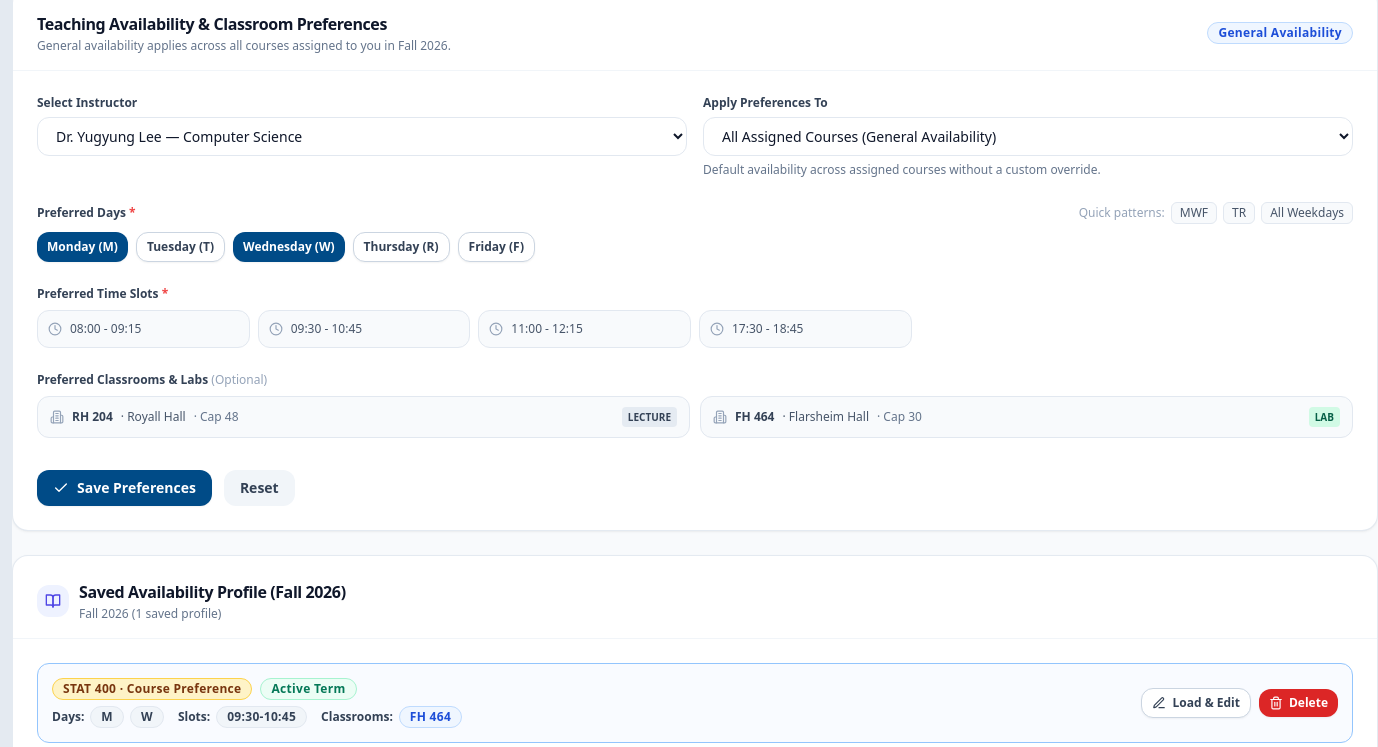
it: PreferencesPage Component › supports Load & Edit and Delete on per-course saved preferences
(page scrolled)
Expected: the text "STAT 400 · Course Preference" is shown, [52, 678, 252, 700]
Expected: the dropdown with test id "preference-course-select" shows "All Assigned Courses (General Availability)", [703, 116, 1353, 156]
Click the button with test id "edit-pref-301" at (1196, 702), box [1142, 688, 1251, 718]
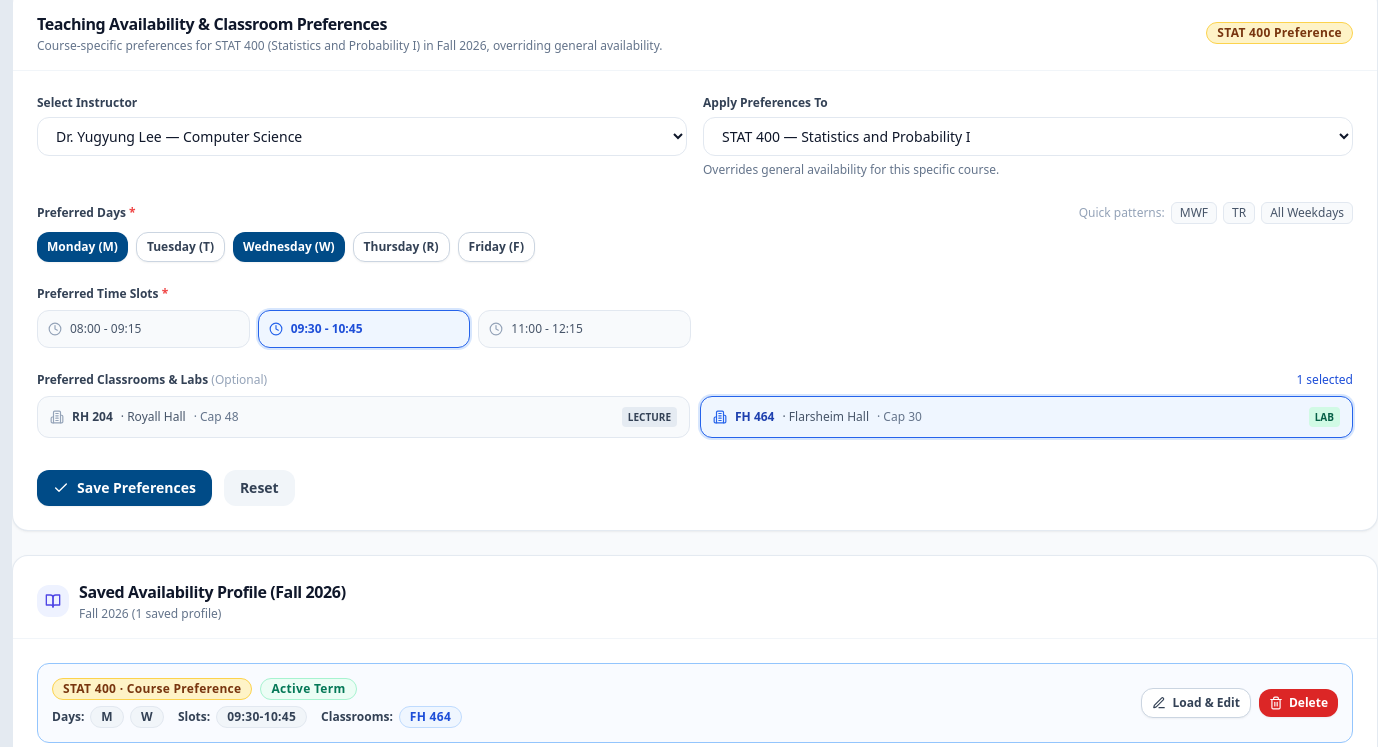
Expected: the dropdown with test id "preference-course-select" shows "STAT 400 — Statistics and Probability I", [703, 116, 1353, 156]
Expected: the text "STAT 400 Preference" is shown, [1206, 22, 1353, 44]
Click the button with test id "delete-pref-301" at (1298, 702), box [1259, 688, 1338, 716]
(page scrolled)
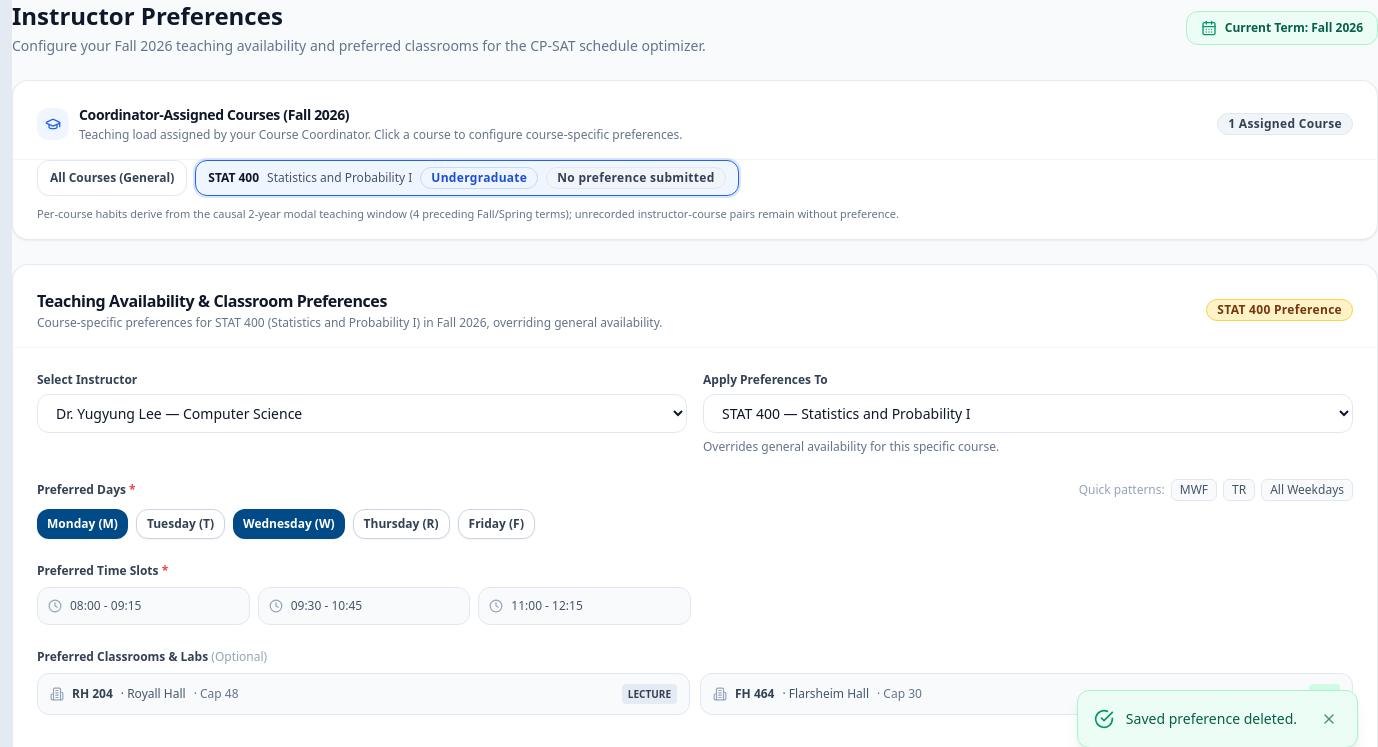
Expected: the button with test id "delete-pref-301" is gone
Expected: the text with test id "course-habit-badge-400" reads "No preference submitted", [557, 169, 715, 186]
